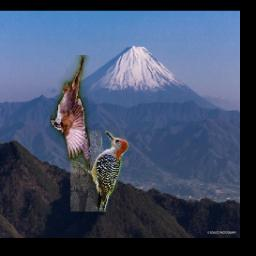Sparrow: (51, 55, 91, 169)
Woodpecker: (70, 130, 130, 212)
